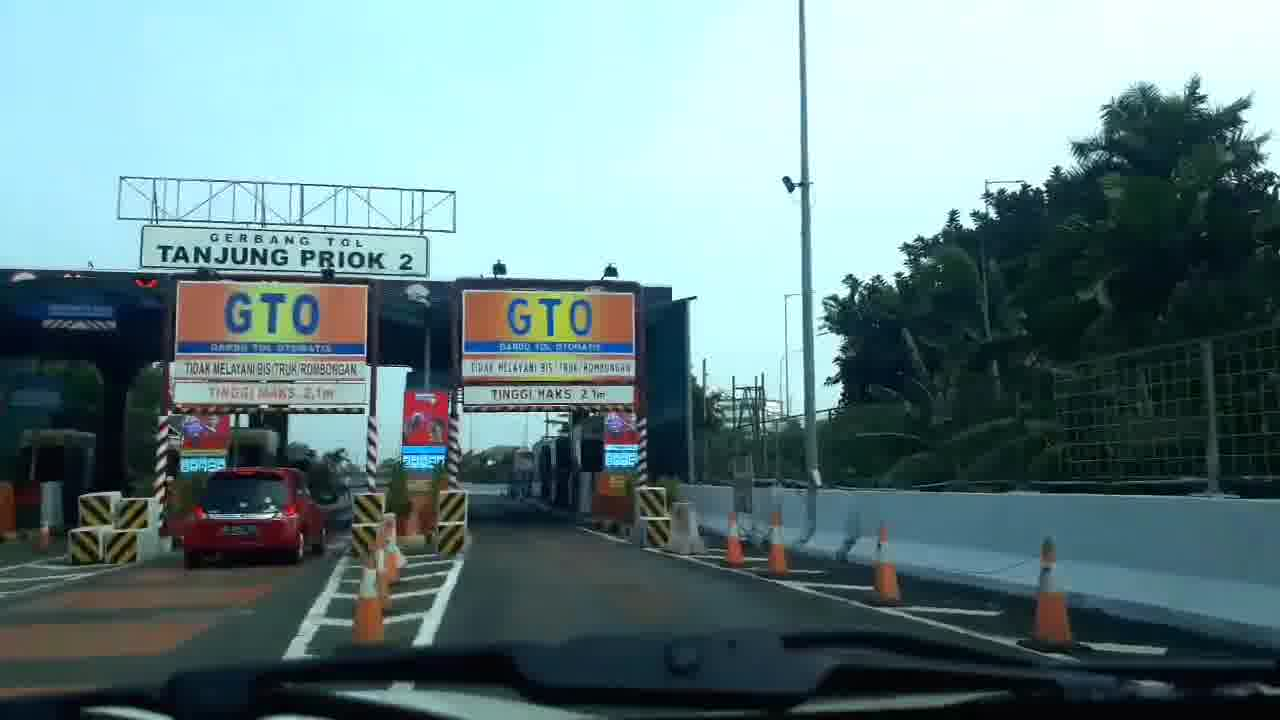plate_positive: (222, 524, 257, 537)
